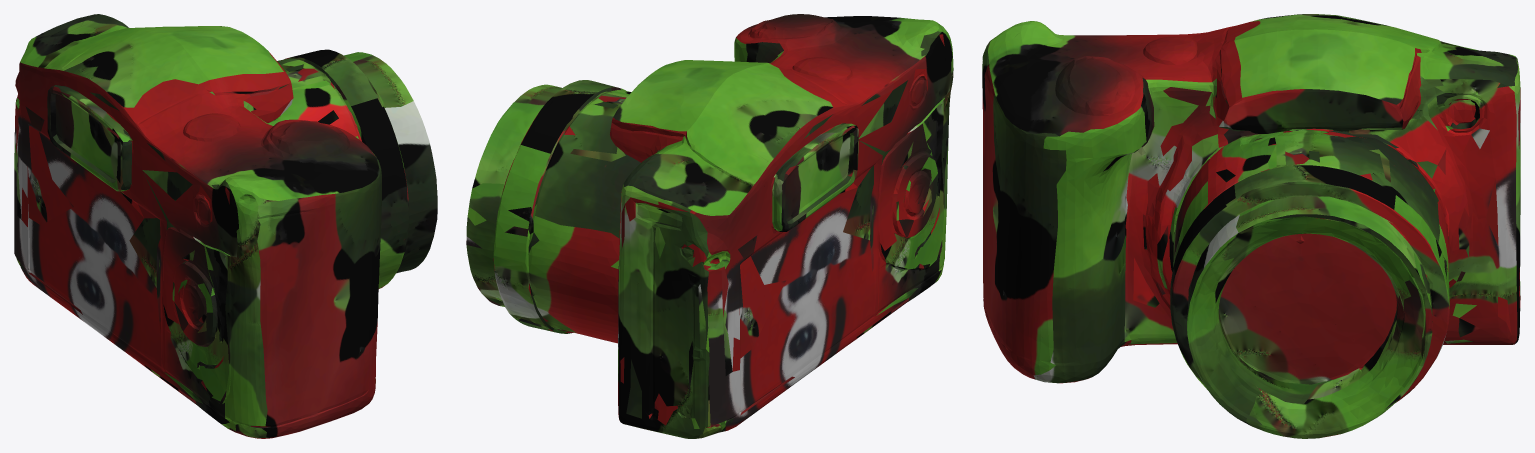
Rendered from sample.obj.
3 renders of one model, left to right at view 1: azimuth 30°, elevation 25°; view 2: azimuth 150°, elevation 25°; view 3: azimuth 270°, elevation 25°, orthographic. The views are drawn at different scales.
Size of the model in its own units: 0.1471 by 0.135 by 0.2091.
